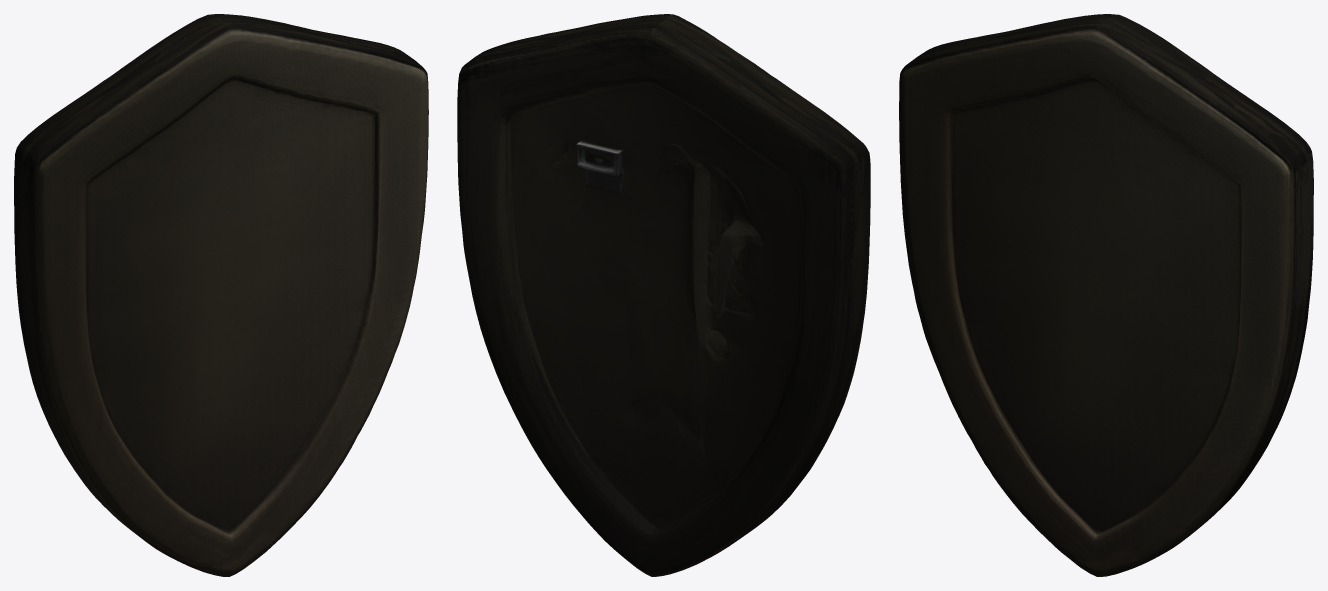
3 renders of one model, left to right at view 1: azimuth 30°, elevation 25°; view 2: azimuth 150°, elevation 25°; view 3: azimuth 330°, elevation 25°, orthographic.
Visible parts, largest first — view 1: geometry_0.072_Baked; view 2: geometry_0.072_Baked; view 3: geometry_0.072_Baked.
Part boxes in pixels (box(x1,y1,x2,y2)): geometry_0.072_Baked: box(14, 14, 428, 576); geometry_0.072_Baked: box(457, 14, 870, 576); geometry_0.072_Baked: box(899, 14, 1313, 576).
Size of the model in its own units: 74.93 by 100 by 11.36.
Materials: 1 (1 with a texture image).
